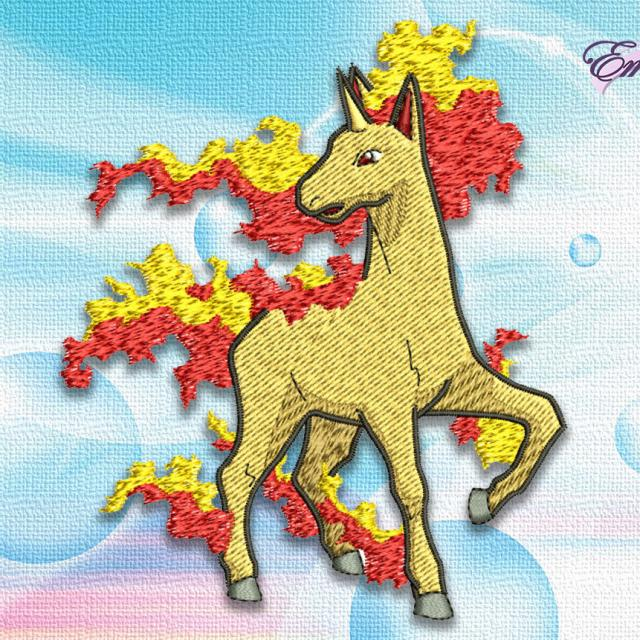Rapidash: (151, 52, 516, 610)
